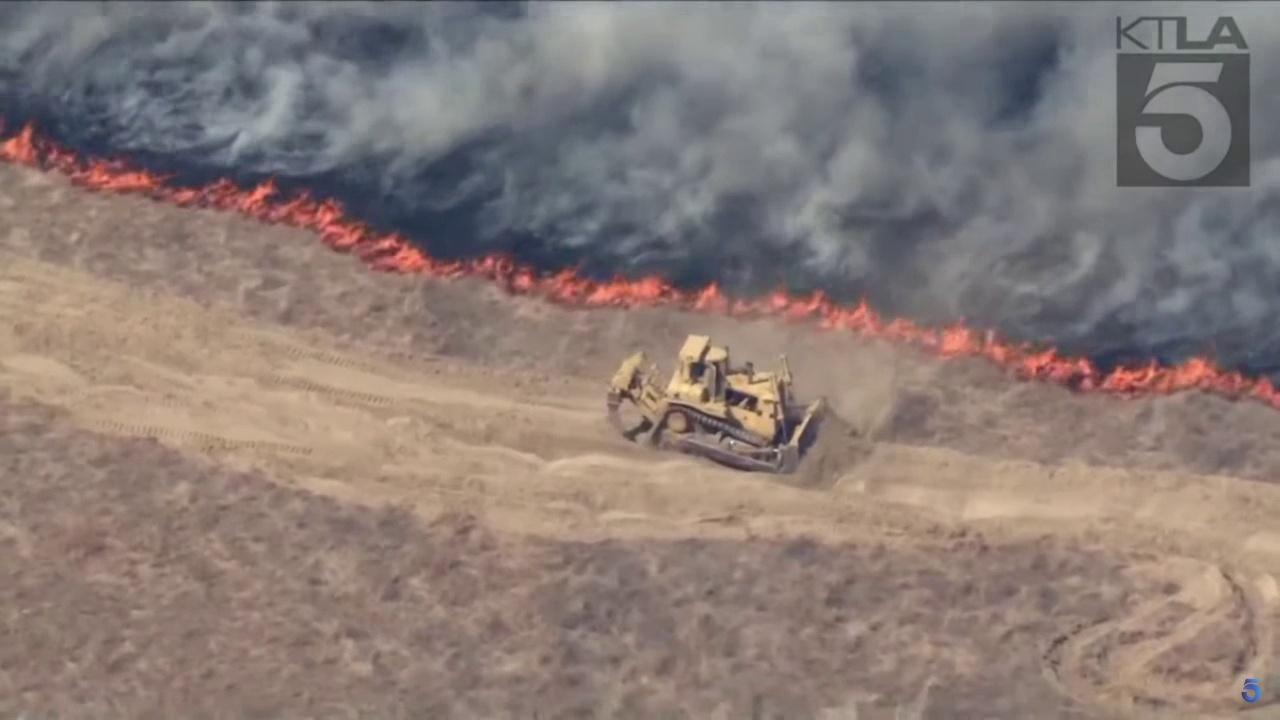fire: (0, 109, 1280, 412)
smoke: (0, 0, 1280, 380)
